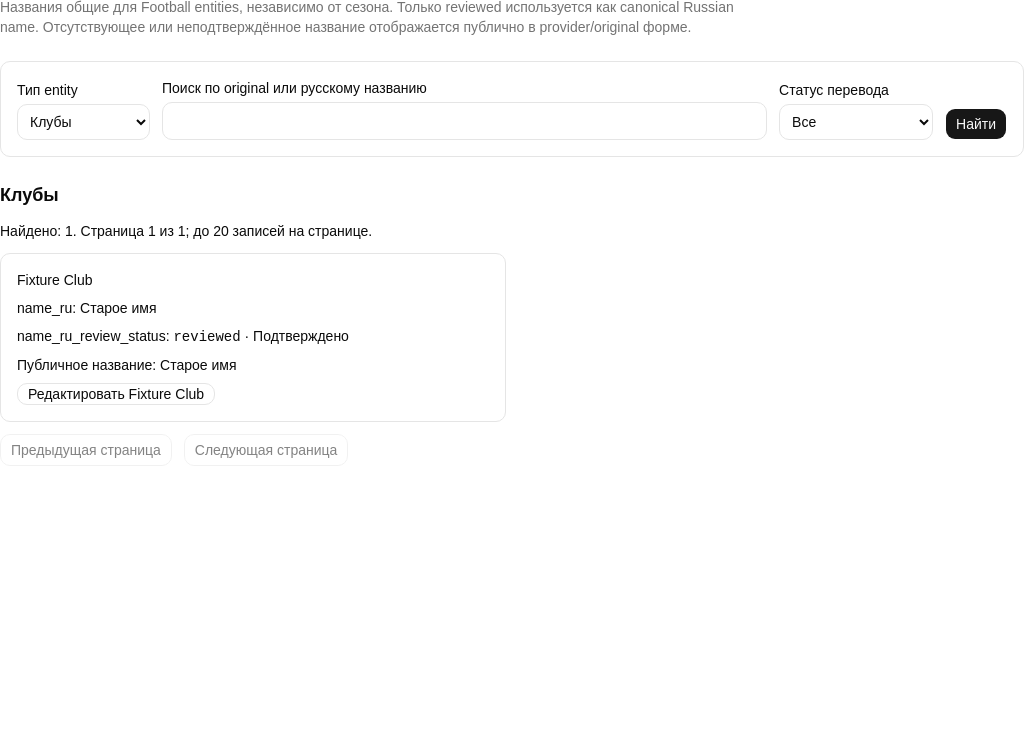
Test case: Football Localization UI › makes a reviewed correction unreviewed and requires another explicit review
Expected: the button "Найти" is enabled, [945,108,1007,140]
Click the button "Редактировать Fixture Club" at (116, 394), box [17,383,215,405]
(page scrolled)
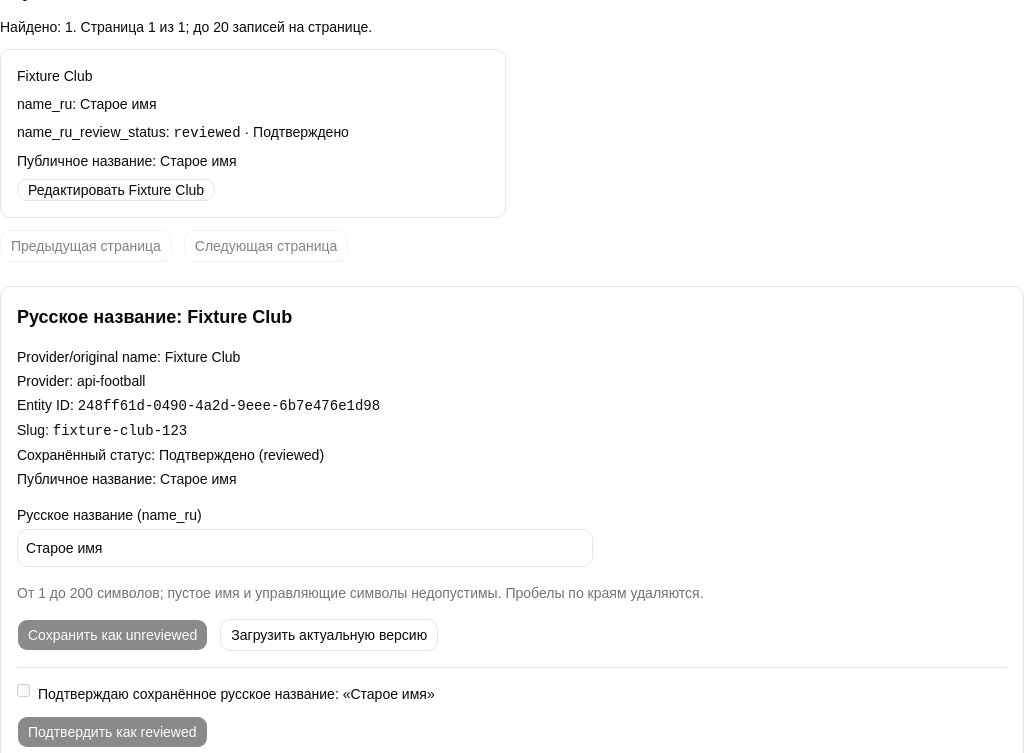
Replace the text in the field labelled "Русское название (name_ru)" with "Новое имя" at (305, 548), box [17,529,593,567]
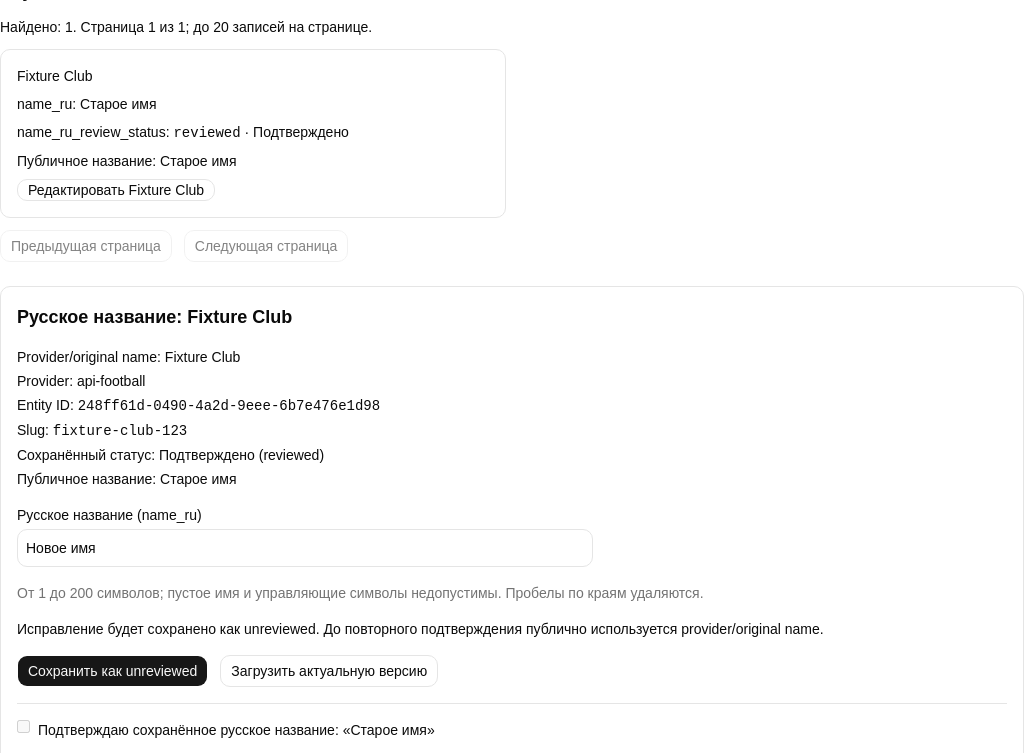
Result: the element "Русское название: Fixture Club" shows "Исправление будет сохранено как unreviewed" at [17,621,824,637]
Click the button "Сохранить как unreviewed" at (113, 671), box [17,655,208,687]
(page scrolled)
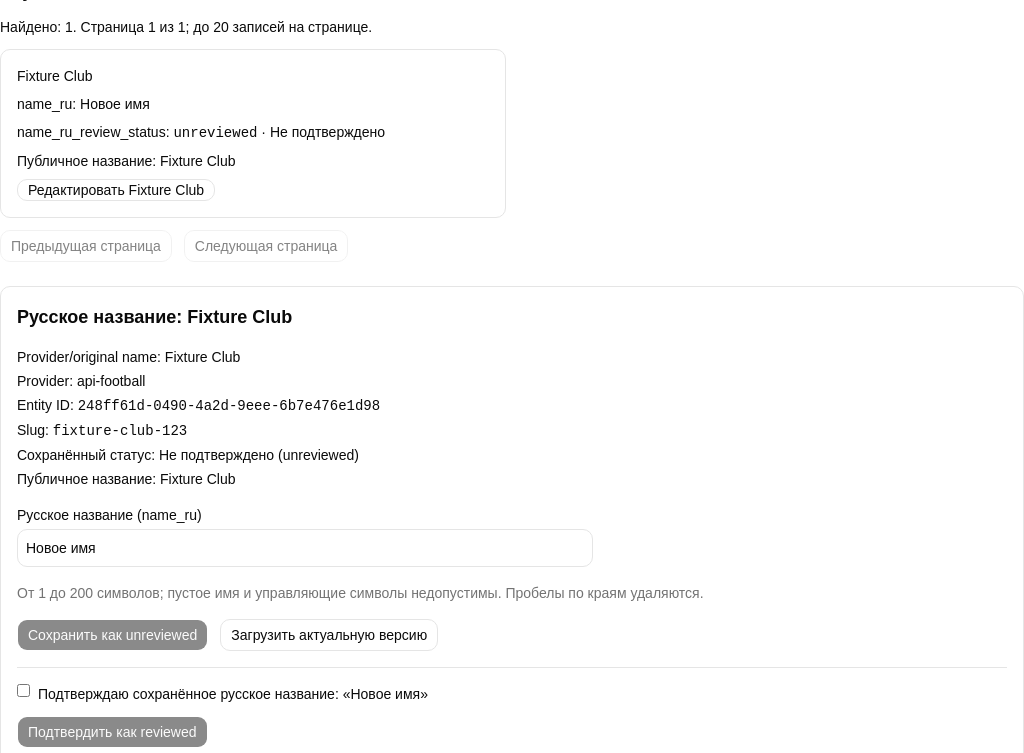
Expected: the text "Fixture Club" below "Найдено:" is shown, [17,68,92,84]
Result: the button "Подтвердить как reviewed" is disabled at [17,716,208,748]
Result: the text "unreviewed" is shown at [173,125,257,141]
